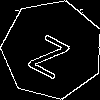Z: (27, 25, 76, 80)
